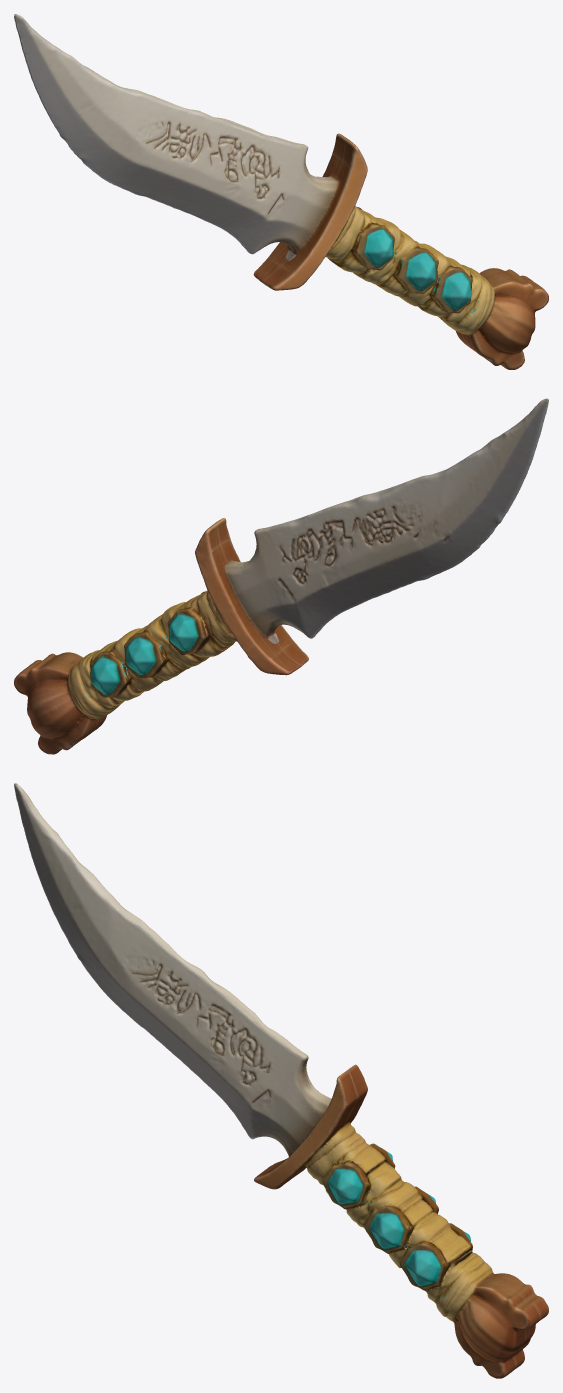
File: Ancient_Jewel_Dagger_1108195758_texture.fbx
3 renders of one model, top to bottom at view 1: azimuth 30°, elevation 25°; view 2: azimuth 150°, elevation 25°; view 3: azimuth 330°, elevation 25°, orthographic.
Parts seen in each view (by area): view 1: output; view 2: output; view 3: output.
Boxes of the visible parts, left/top/right/bottom form: output: left=14, top=14, right=548, bottom=369; output: left=14, top=398, right=548, bottom=754; output: left=14, top=783, right=548, bottom=1378.
Size of the model in its own units: 23.5 by 20 by 3.71.
1 material, 1 textured.
